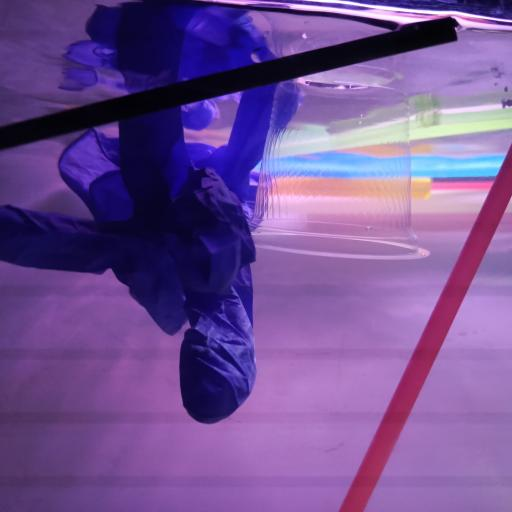glove: (0, 72, 300, 427)
plastic_cup: (249, 65, 433, 261)
plastic_straw: (341, 142, 512, 512), (0, 16, 459, 151), (254, 155, 507, 179)
